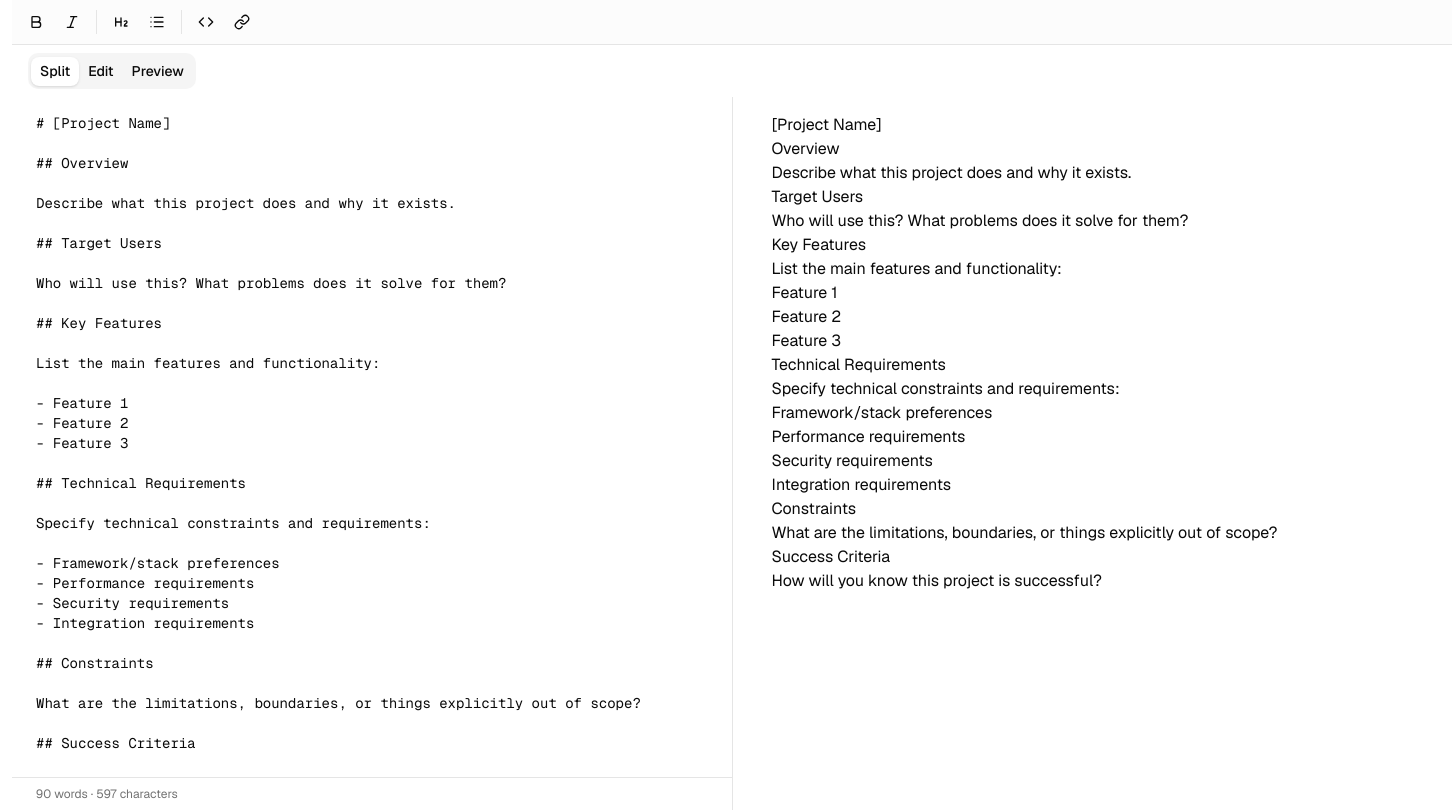
Test: PrdEditor › inserts heading markdown when clicking heading button
This screenshot has width=1452, height=810.
Replace the text in the text box with test id "prd-editor-textarea" with "test" at (372, 437), box top-left (12, 97), bottom-right (732, 777)
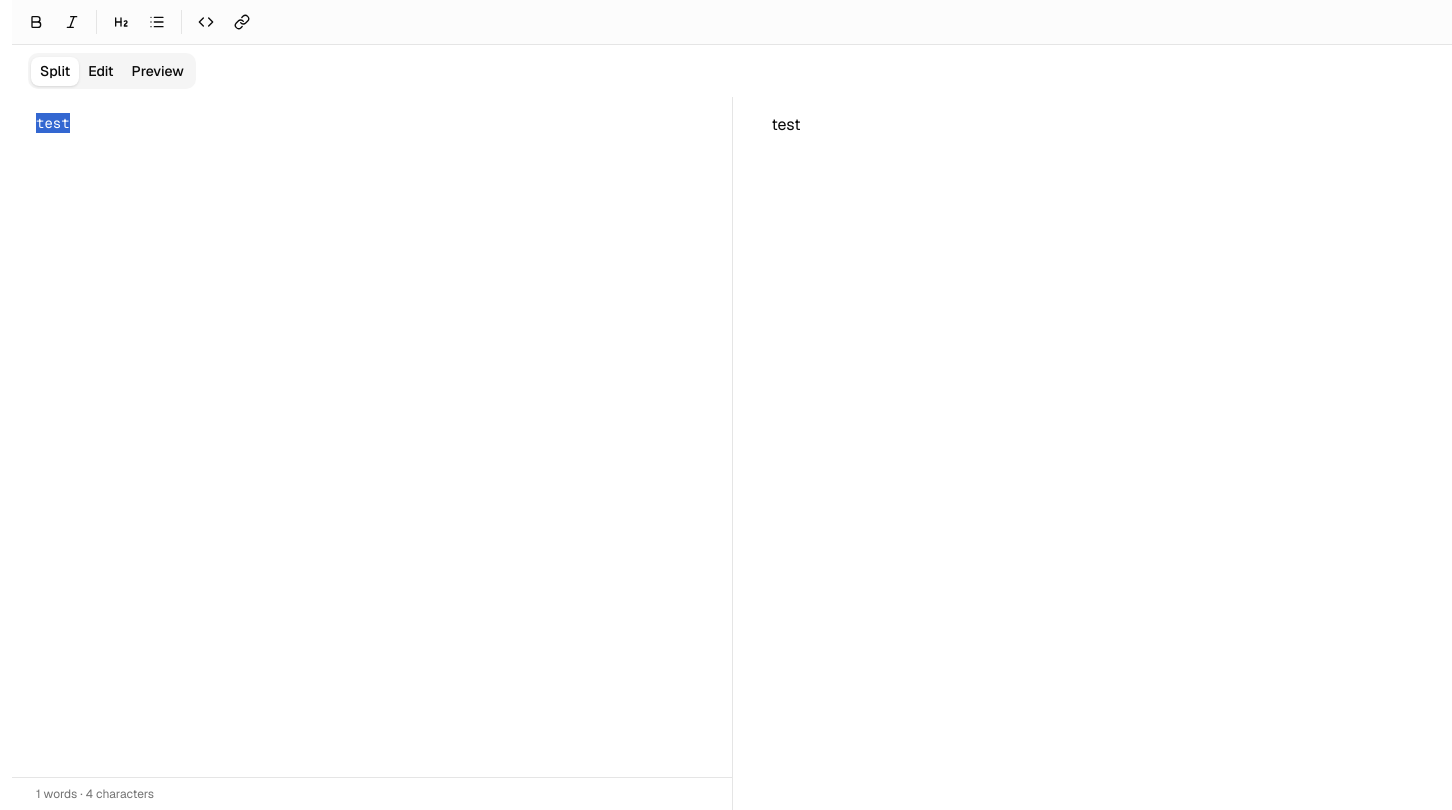
Click the button with test id "toolbar-heading" at (121, 22), box top-left (105, 6), bottom-right (137, 38)
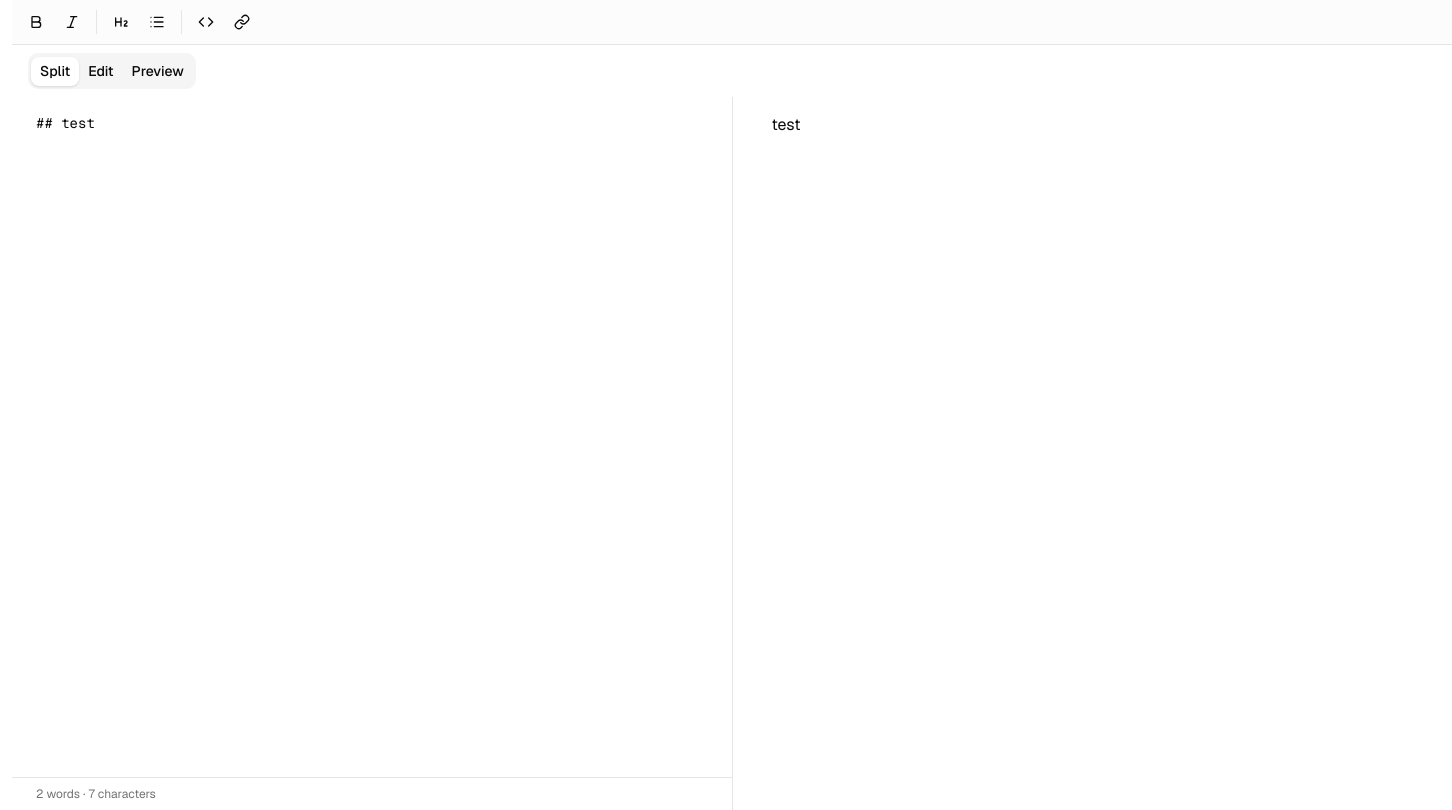
Expected: the text box with test id "prd-editor-textarea" holds "## test", top-left (12, 97), bottom-right (732, 777)
